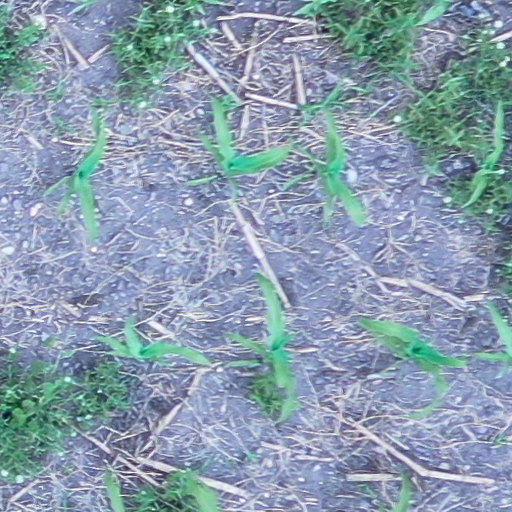planta: (354, 318, 471, 419), (221, 273, 297, 428), (302, 105, 366, 224), (201, 96, 293, 176), (54, 117, 105, 247), (91, 312, 213, 366), (459, 99, 505, 209)
